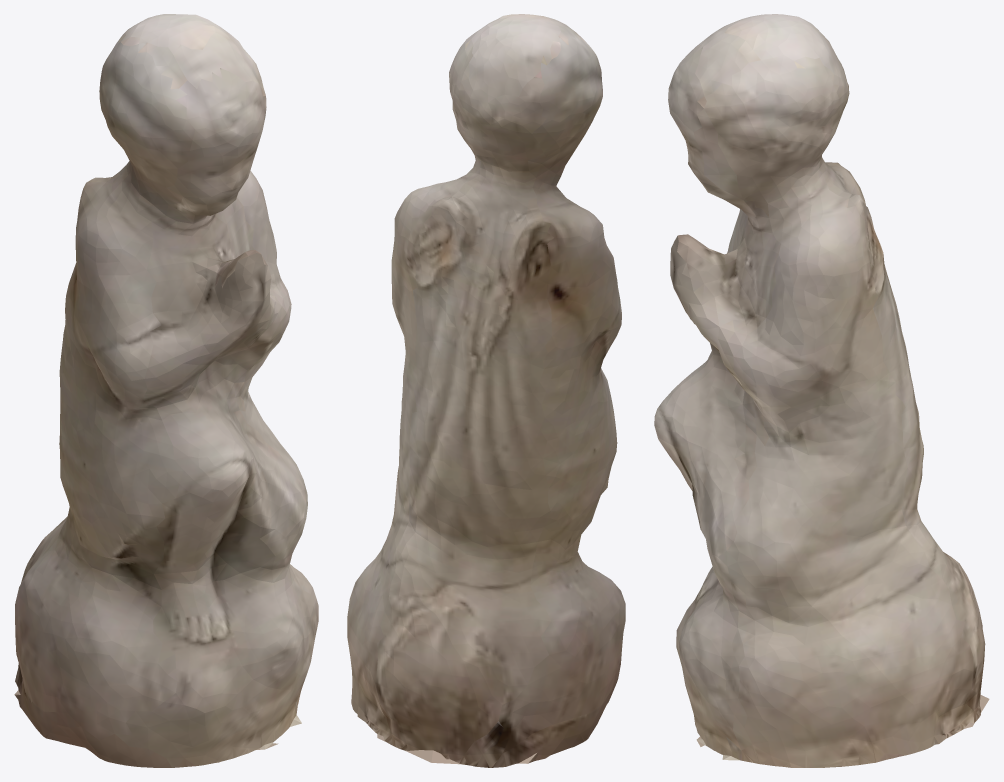
The model's file is stone_angel.glb.
The picture shows the model from 3 angles, left to right: view 1: azimuth 30°, elevation 25°; view 2: azimuth 150°, elevation 25°; view 3: azimuth 270°, elevation 25°; orthographic projection. The views are drawn at different scales.
Visible parts, largest first — view 1: Object_2; view 2: Object_2; view 3: Object_2.
Boxes of the visible parts, left/top/right/bottom form: Object_2: left=14, top=14, right=318, bottom=767; Object_2: left=347, top=14, right=625, bottom=767; Object_2: left=654, top=14, right=989, bottom=767.
Size of the model in its own units: 0.0647 by 0.1752 by 0.0764.
1 material, 1 textured.
